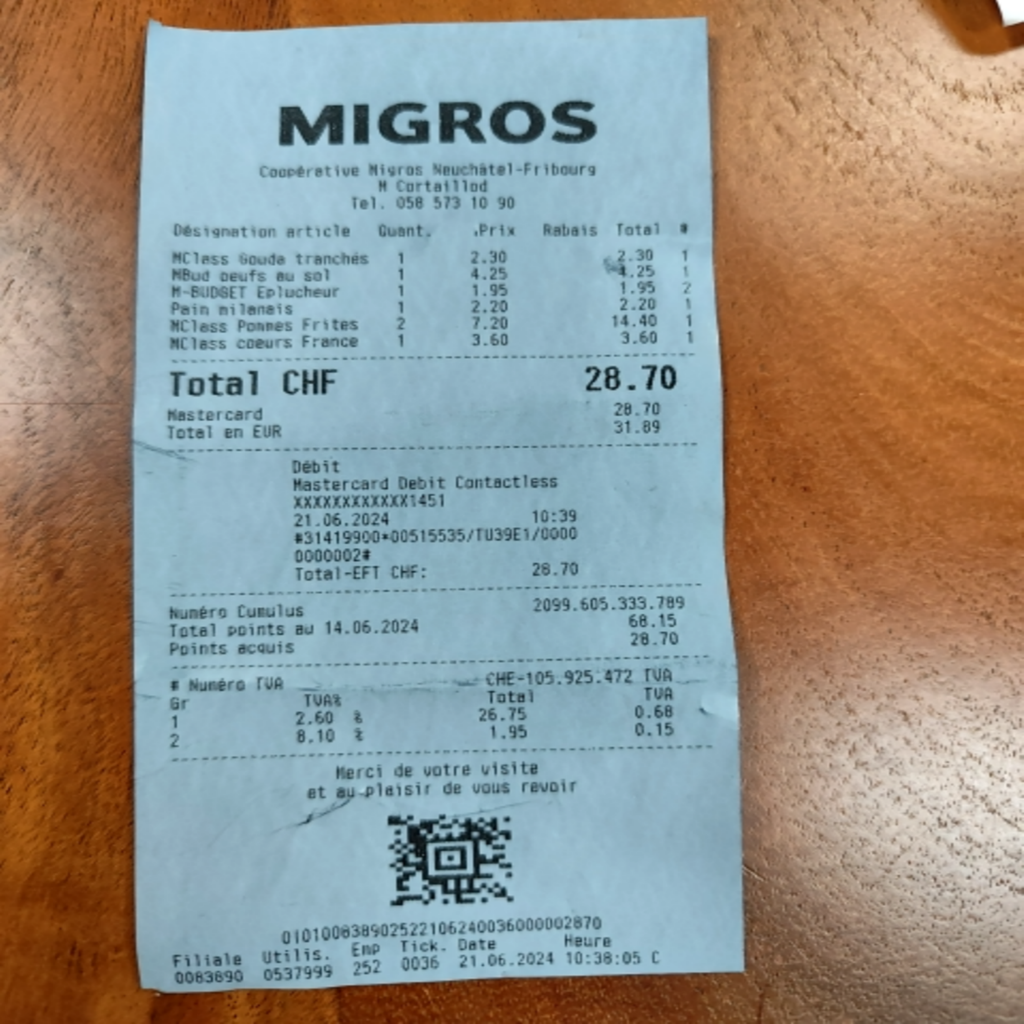recipt: (128, 11, 749, 995)
